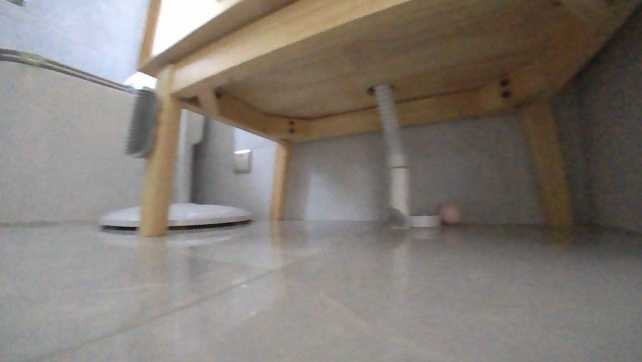chair_base: (166, 189, 251, 228)
toilet: (0, 45, 152, 229)
